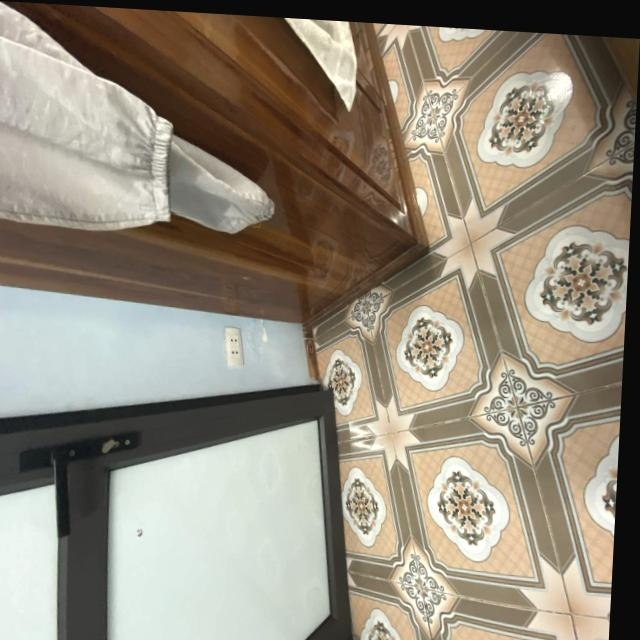outlet: (222, 326, 246, 367)
